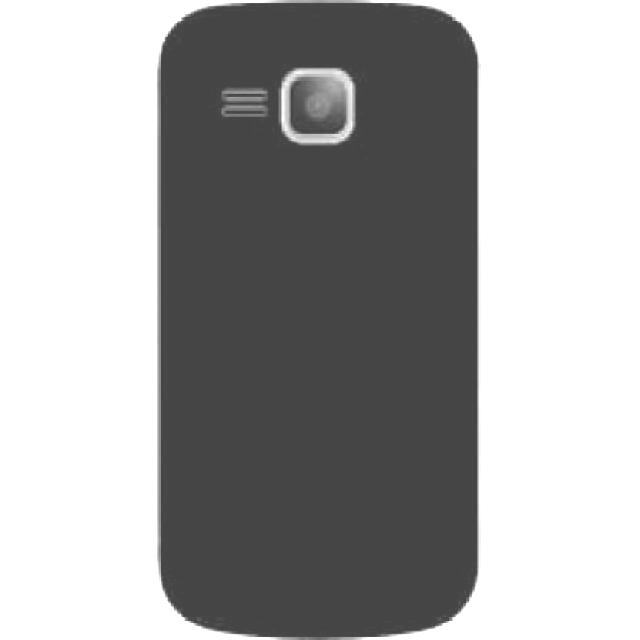fake: (156, 3, 481, 637)
